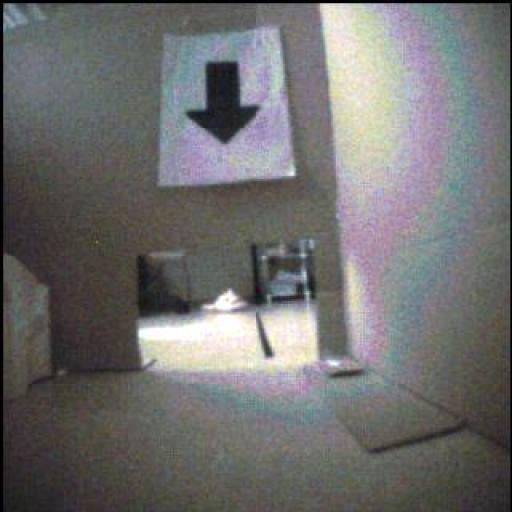arrow: (188, 63, 260, 145)
